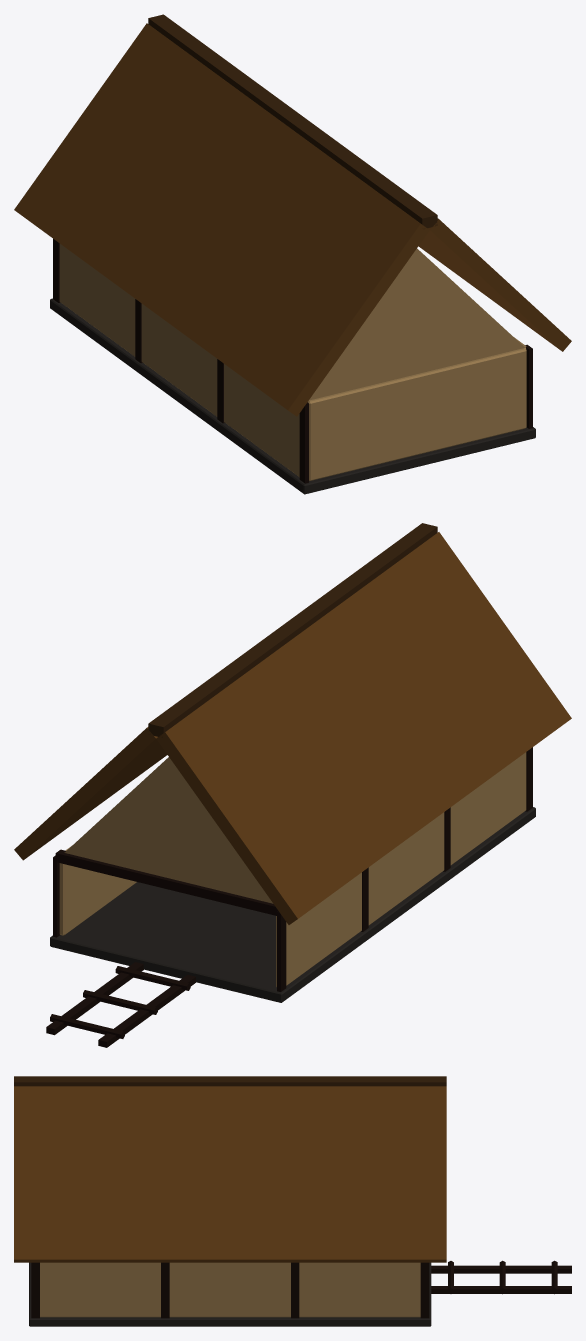
Rendered from boat_shed.fbx.
3 renders of one model, top to bottom at view 1: azimuth 30°, elevation 25°; view 2: azimuth 150°, elevation 25°; view 3: azimuth 270°, elevation 25°, orthographic. The views are drawn at different scales.
Parts seen in each view (by area): view 1: boat_shed; view 2: boat_shed; view 3: boat_shed.
Boxes of the visible parts, x1,y1,x2,y2 form: boat_shed: (14, 14, 571, 494); boat_shed: (14, 523, 571, 1047); boat_shed: (14, 1076, 571, 1326).
Bounding box in the file's own units: 5.99 × 5.18 × 12.9.
